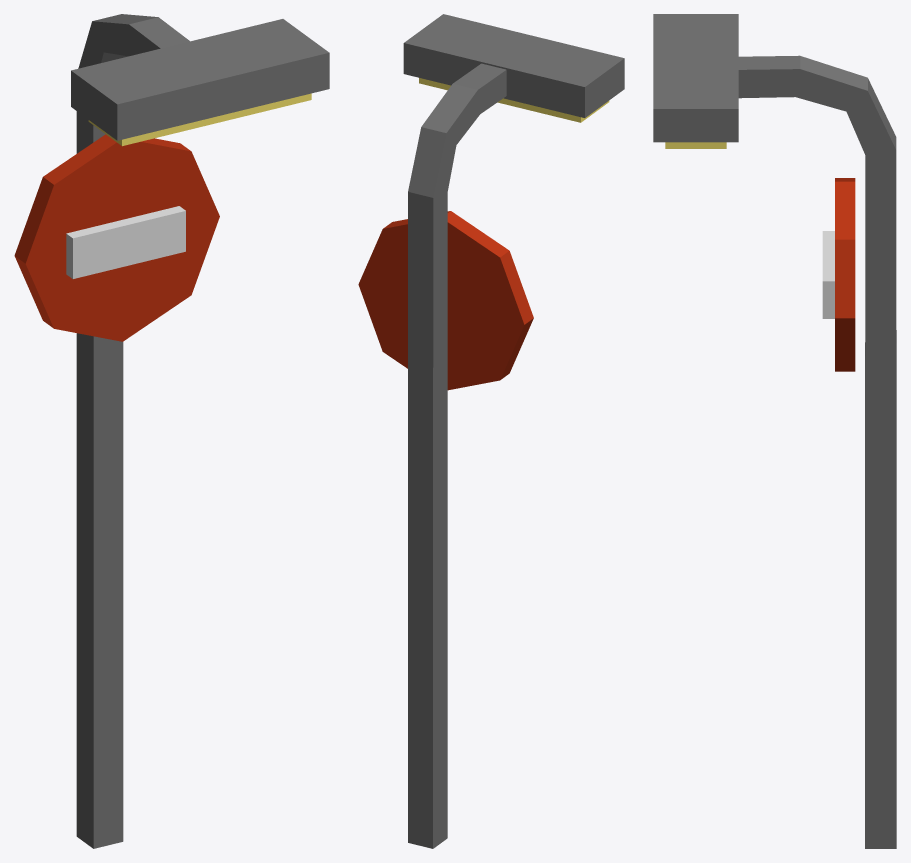
File: PR_LampStopSign_01.fbx
3 views of the same model, side by side, from view 1: azimuth 30°, elevation 25°; view 2: azimuth 150°, elevation 25°; view 3: azimuth 270°, elevation 25° (orthographic). The views are drawn at different scales.
Parts seen in each view (by area): view 1: PR_LampStopSign_01, Cylinder.005, Cube.007, Cube.012; view 2: PR_LampStopSign_01, Cylinder.005, Cube.007; view 3: PR_LampStopSign_01, Cube.007, Cylinder.005, Cube.012.
Part boxes in pixels (x1,y1,x2,y2): PR_LampStopSign_01: [76, 14, 189, 848]; Cylinder.005: [14, 134, 219, 341]; Cube.007: [71, 19, 329, 146]; Cube.012: [66, 206, 185, 278]; PR_LampStopSign_01: [408, 63, 506, 848]; Cylinder.005: [358, 211, 533, 390]; Cube.007: [403, 14, 624, 122]; PR_LampStopSign_01: [738, 55, 896, 848]; Cube.007: [653, 14, 738, 148]; Cylinder.005: [835, 178, 855, 371]; Cube.012: [822, 231, 834, 318].
Size of the model in its own units: 134 by 514 by 145.
